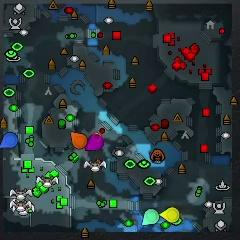p1: (0, 132, 19, 149)
p2: (142, 209, 159, 225)
p3: (85, 134, 104, 151)
p4: (159, 207, 180, 223)
p5: (70, 131, 87, 149)
